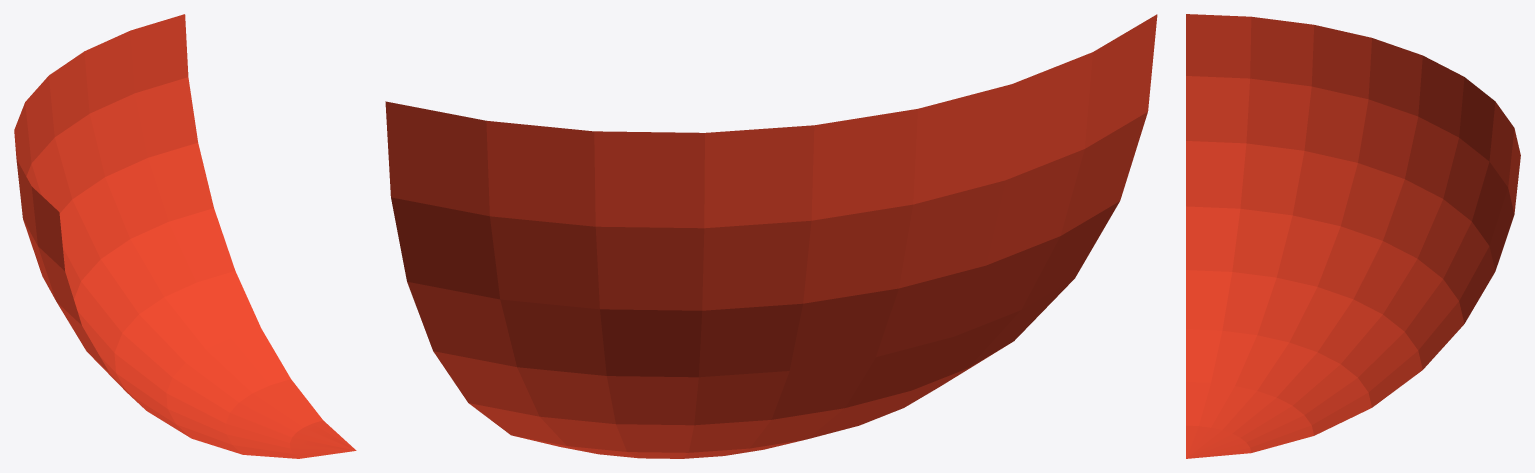
Rendered from r4c2_face_red.gltf.
The picture shows the model from 3 angles, left to right: view 1: azimuth 30°, elevation 25°; view 2: azimuth 150°, elevation 25°; view 3: azimuth 270°, elevation 25°; orthographic projection. The views are drawn at different scales.
Visible parts, largest first — view 1: r4c2_face_red; view 2: r4c2_face_red; view 3: r4c2_face_red.
Boxes of the visible parts, <box> form: r4c2_face_red: <box>14,14,356,458</box>; r4c2_face_red: <box>385,14,1157,458</box>; r4c2_face_red: <box>1186,14,1520,458</box>.
Bounding box in the file's own units: 2 × 2 × 2.
Materials: 1 (1 with a texture image).
